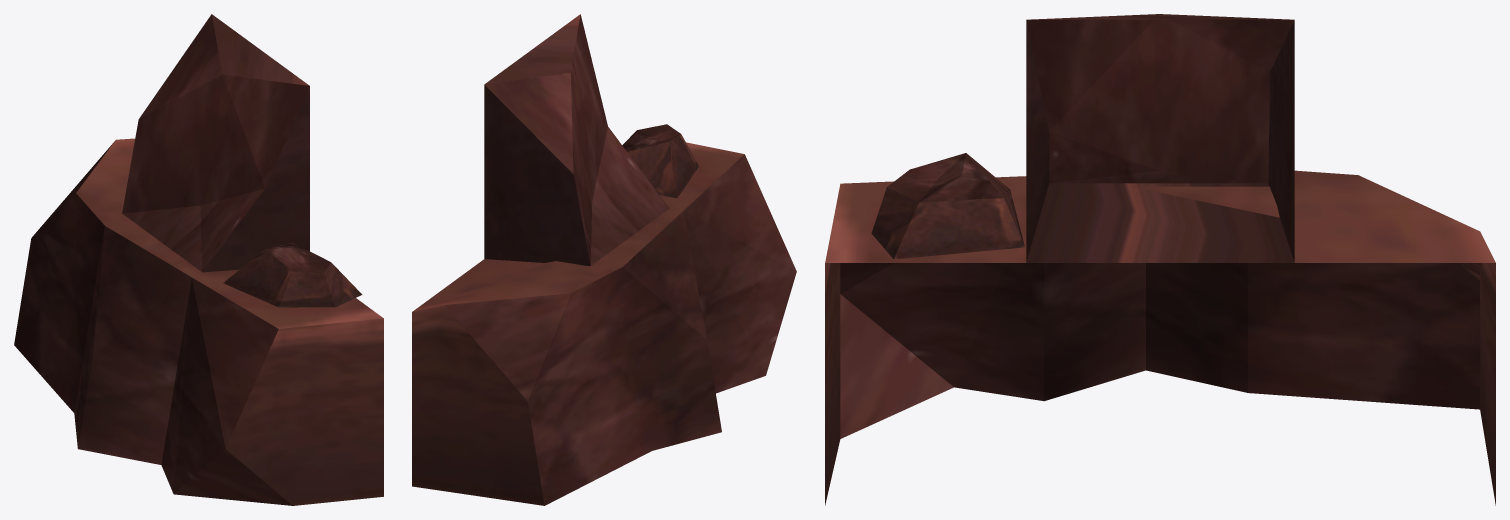
The model's file is lava_railing_end_02.fbx.
3 renders of one model, left to right at view 1: azimuth 30°, elevation 25°; view 2: azimuth 150°, elevation 25°; view 3: azimuth 270°, elevation 25°, orthographic. The views are drawn at different scales.
Parts seen in each view (by area): view 1: lava_railing_end_02-0; view 2: lava_railing_end_02-0; view 3: lava_railing_end_02-0.
Boxes of the visible parts, bbox=[...] form: lava_railing_end_02-0: bbox=[14, 14, 383, 505]; lava_railing_end_02-0: bbox=[412, 14, 796, 505]; lava_railing_end_02-0: bbox=[825, 14, 1495, 505].
Bounding box in the file's own units: 0.5637 × 1 × 1.25.
